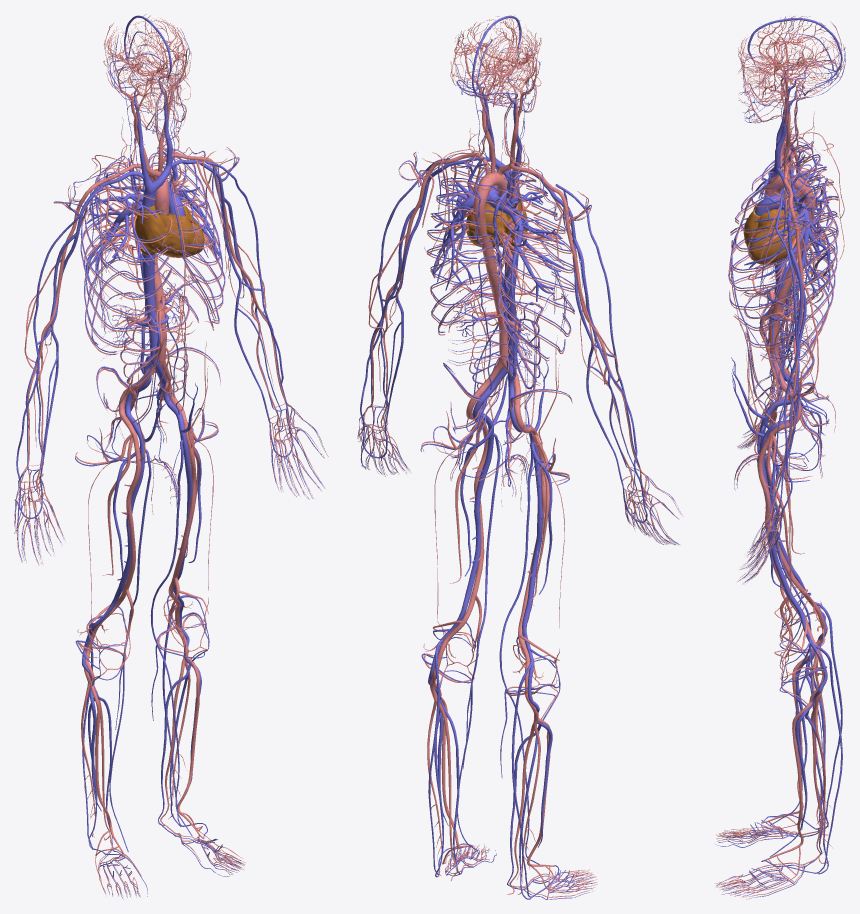
Rendered from vessels.glb.
3 views of the same model, side by side, from view 1: azimuth 30°, elevation 25°; view 2: azimuth 150°, elevation 25°; view 3: azimuth 270°, elevation 25° (orthographic). The views are drawn at different scales.
Parts seen in each view (by area): view 1: Object_153, Object_4, Object_151; view 2: Object_153, Object_4, Object_151; view 3: Object_4, Object_153, Object_151.
Part boxes in pixels (left/top/right/bottom): Object_153: left=14, top=15, right=325, bottom=899; Object_4: left=14, top=14, right=328, bottom=896; Object_151: left=133, top=204, right=204, bottom=257; Object_153: left=358, top=15, right=681, bottom=899; Object_4: left=357, top=15, right=682, bottom=897; Object_151: left=466, top=202, right=527, bottom=252; Object_4: left=716, top=16, right=845, bottom=897; Object_153: left=715, top=17, right=845, bottom=899; Object_151: left=743, top=194, right=802, bottom=264.
Size of the model in its own units: 0.664 by 1.7 by 0.2394.
